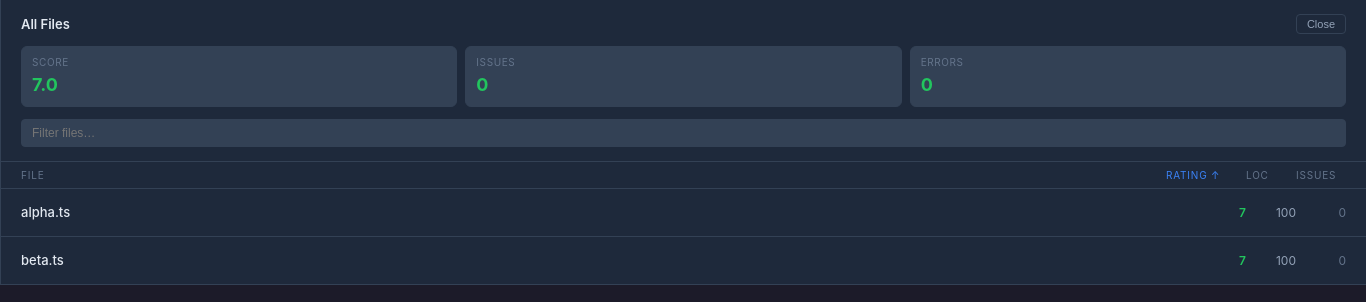
Test: FileListDrawer › filters files by search text
Type "beta" into the field with placeholder "Filter files…" at (684, 133), box [21, 119, 1346, 147]
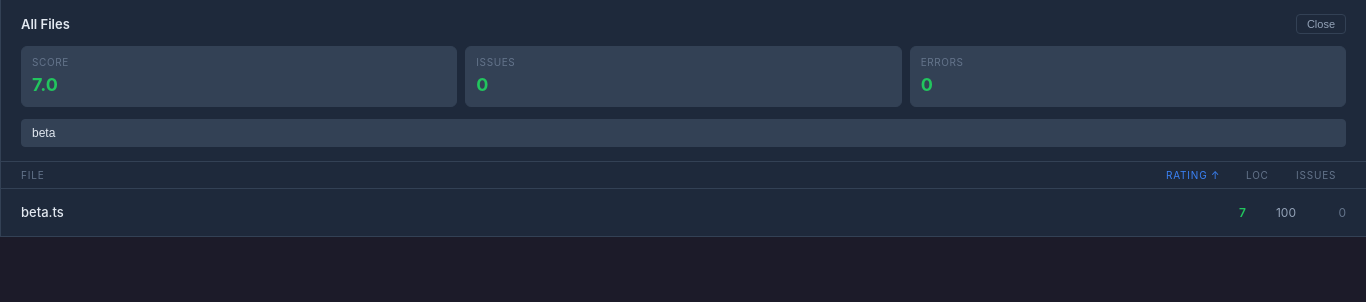
Expected: the text "beta.ts" is shown, [21, 204, 64, 220]
Expected: the text "alpha.ts" is gone
